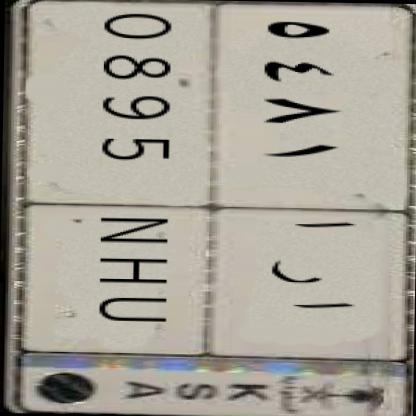english: (13, 0, 229, 361)
